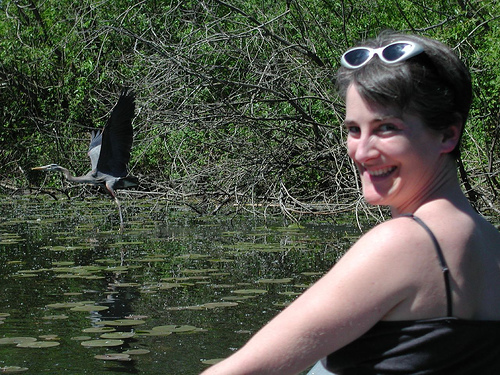without_mask: (341, 81, 443, 208)
